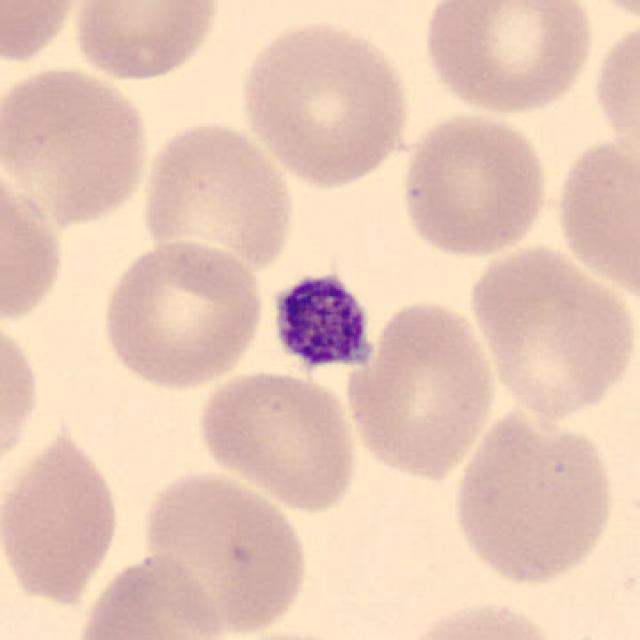Platelets: (265, 268, 380, 381)
RBC: (447, 402, 620, 589), (235, 14, 416, 191), (464, 240, 636, 423), (339, 295, 502, 483), (137, 466, 313, 638), (96, 236, 268, 393), (137, 114, 299, 278), (192, 365, 363, 515), (1, 62, 154, 225), (396, 108, 553, 262), (0, 420, 126, 610), (418, 0, 597, 118), (550, 129, 638, 303), (71, 548, 229, 640), (71, 0, 226, 83), (0, 162, 69, 331), (0, 307, 43, 488), (395, 596, 565, 640), (0, 0, 87, 71), (190, 626, 377, 640), (574, 0, 638, 26)
